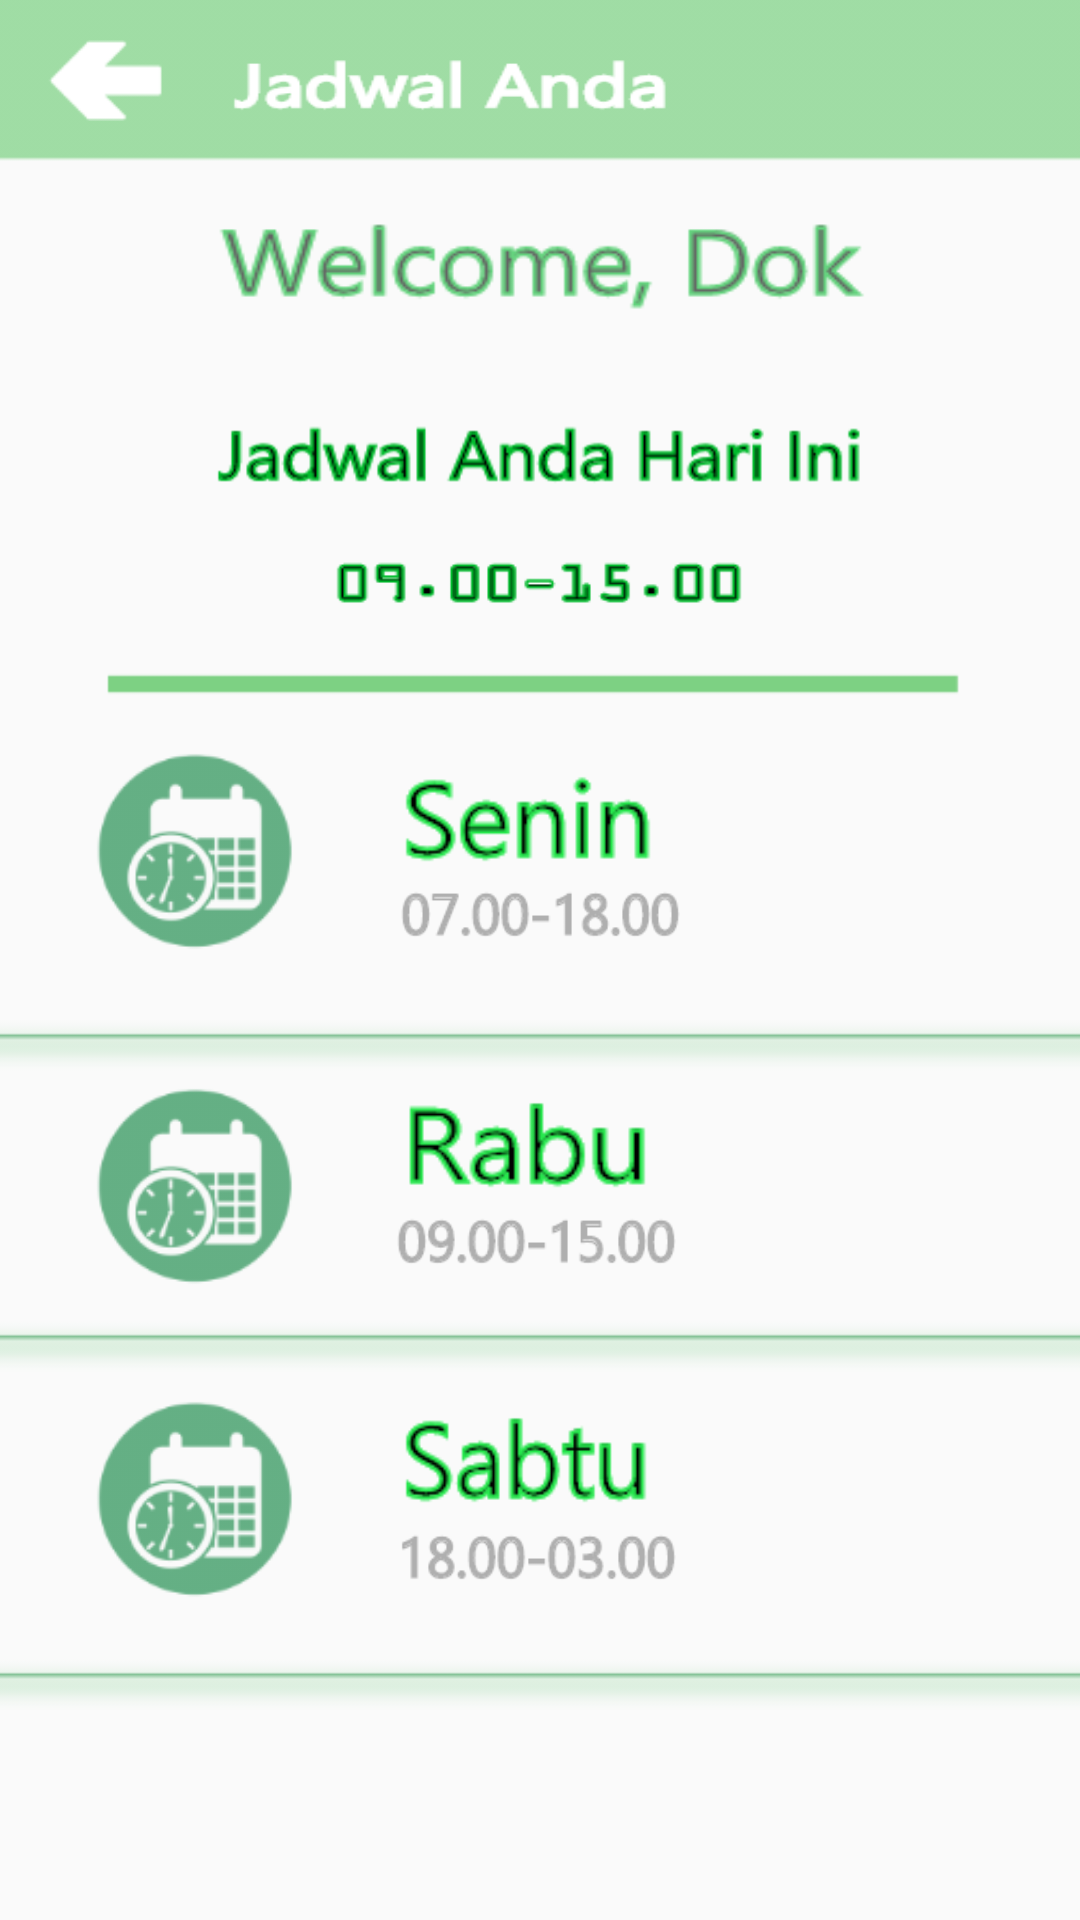

Named icons in this screenshot (1080px×1920px) and their bounding boxes, (x1, y1, x2, y2):
back: (50, 41, 162, 120)
date: (98, 754, 292, 947), (98, 1089, 292, 1282), (98, 1402, 292, 1595)
